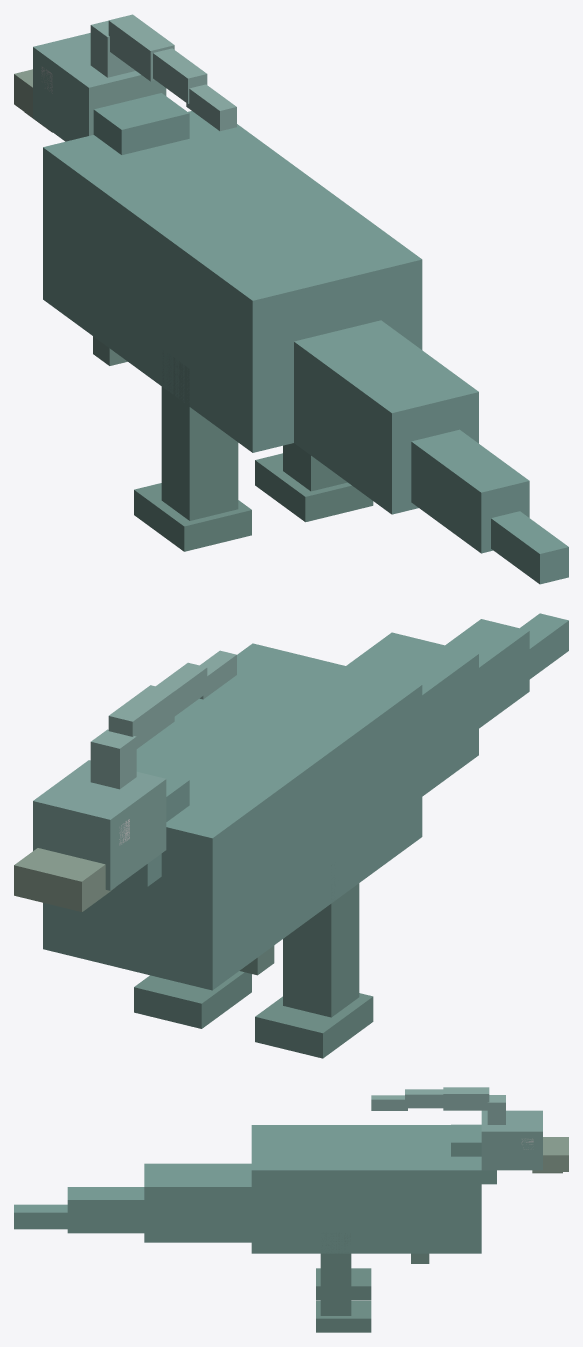
The model's file is parasaurolophus.glb.
The picture shows the model from 3 angles, top to bottom: view 1: azimuth 30°, elevation 25°; view 2: azimuth 150°, elevation 25°; view 3: azimuth 270°, elevation 25°; orthographic projection. The views are drawn at different scales.
Parts seen in each view (by area): view 1: Dinosaur; view 2: Dinosaur; view 3: Dinosaur.
Part boxes in pixels (x1,y1,x2,y2): Dinosaur: (14, 14, 568, 584); Dinosaur: (14, 613, 568, 1058); Dinosaur: (14, 1087, 568, 1332).
Bounding box in the file's own units: 0.78 × 1.56 × 3.62.
